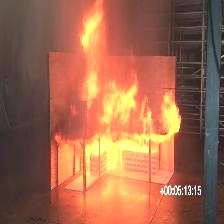fire: (47, 1, 186, 187)
